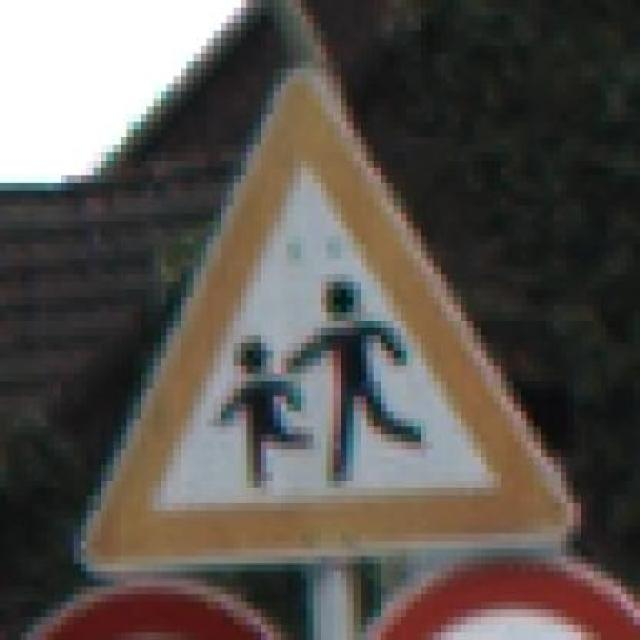Beware of children: (60, 61, 600, 572)
